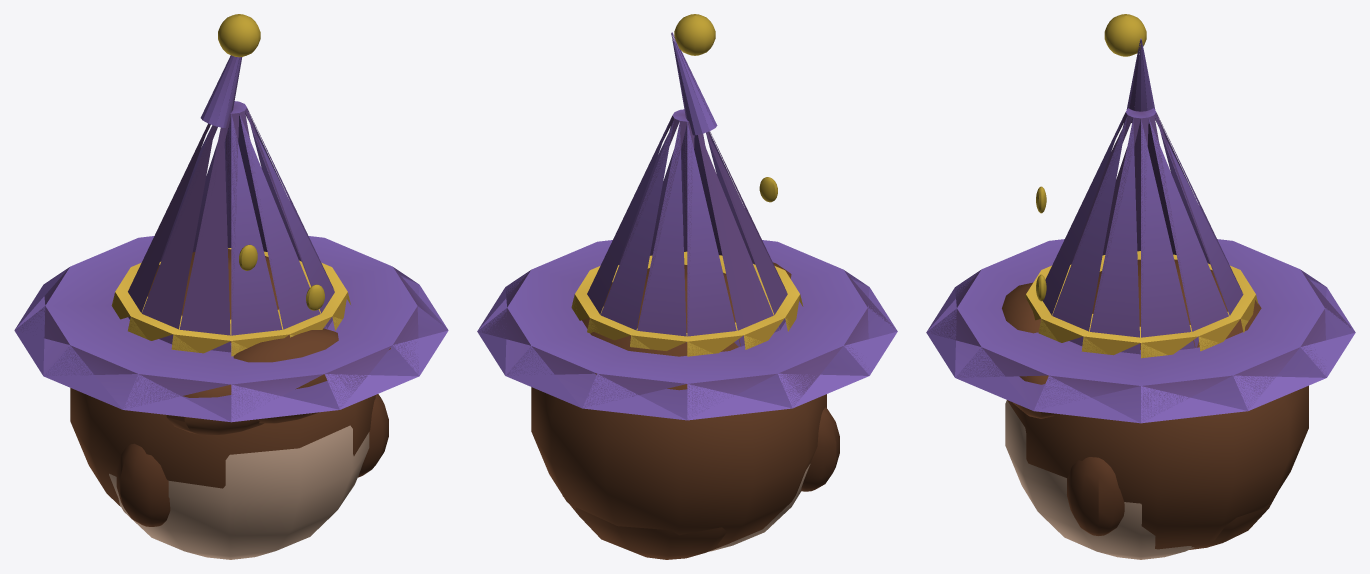
Rendered from boy-wizard-wand-head.glb.
3 renders of one model, left to right at view 1: azimuth 30°, elevation 25°; view 2: azimuth 150°, elevation 25°; view 3: azimuth 270°, elevation 25°, orthographic. The views are drawn at different scales.
Visible parts, largest first — view 1: player_boy-wizard-wand:head; view 2: player_boy-wizard-wand:head; view 3: player_boy-wizard-wand:head.
Boxes of the visible parts, x1=… form: player_boy-wizard-wand:head: x1=14, y1=14, x2=448, y2=559; player_boy-wizard-wand:head: x1=477, y1=14, x2=897, y2=559; player_boy-wizard-wand:head: x1=926, y1=14, x2=1355, y2=559.
Bounding box in the file's own units: 0.56 × 0.7638 × 0.56.
